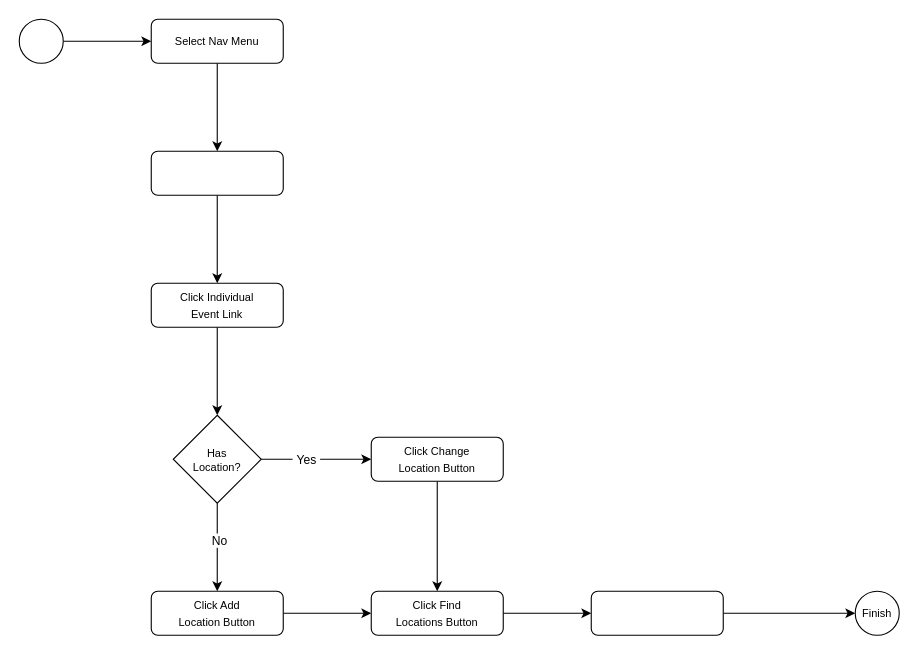
Image size: 919x655. Some labels were removed from this diagram. The centre of each missing label's shape, as x and y in pixels:
"Click Add Button next to Location" goes at pixel 656 612.
"Click Events Link" goes at pixel 216 172.
"Start" goes at pixel 40 40.
